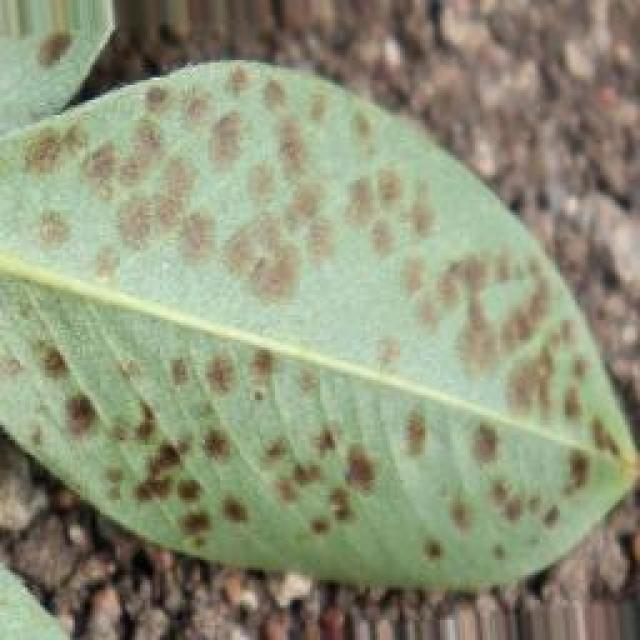Whitefly: (0, 40, 623, 598)
